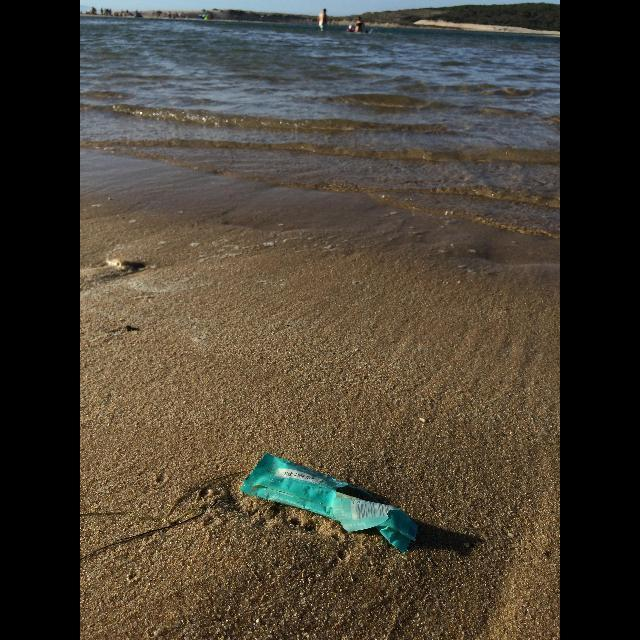Plastic: (239, 452, 417, 554)
